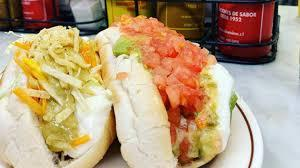Completos: (99, 13, 234, 165), (1, 22, 102, 166)
